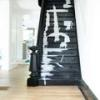stairs: (44, 3, 80, 83)
